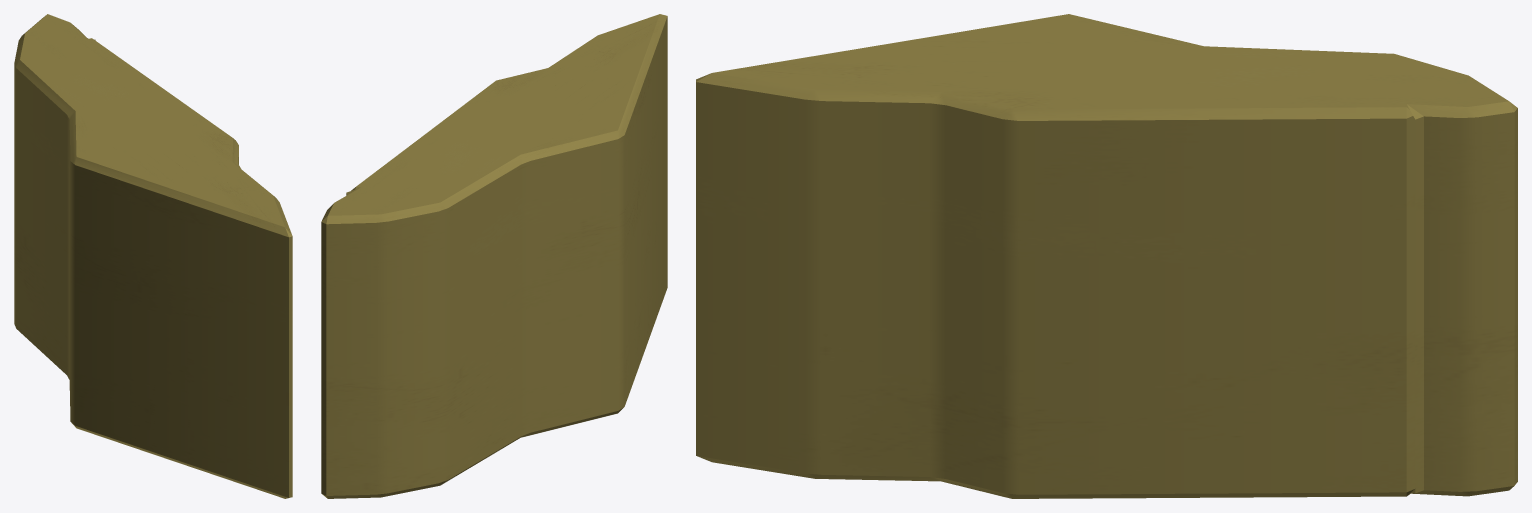
The model's file is palestine.DAE.
3 renders of one model, left to right at view 1: azimuth 30°, elevation 25°; view 2: azimuth 150°, elevation 25°; view 3: azimuth 270°, elevation 25°, orthographic. The views are drawn at different scales.
Parts seen in each view (by area): view 1: Palestine; view 2: Palestine; view 3: Palestine.
Part boxes in pixels (x1,y1,x2,y2): Palestine: (14, 14, 292, 498); Palestine: (321, 14, 667, 498); Palestine: (696, 14, 1517, 498).
Size of the model in its own units: 14.03 by 47.82 by 25.
Materials: 1 (1 with a texture image).
